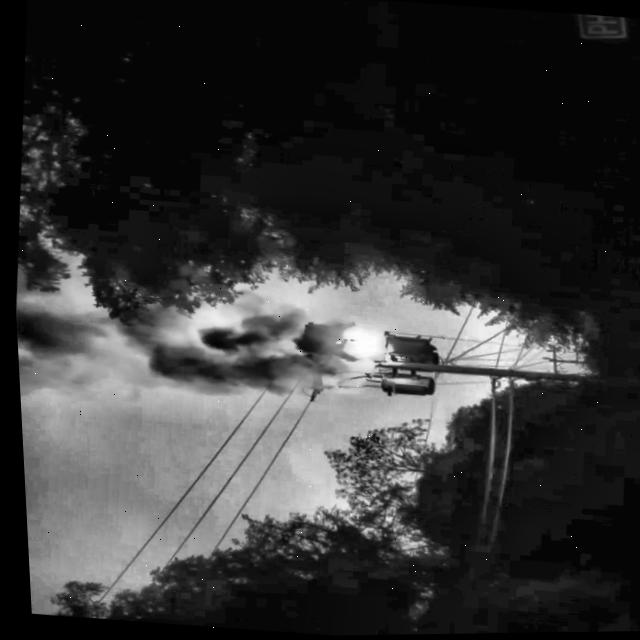Fire: (318, 319, 386, 370)
